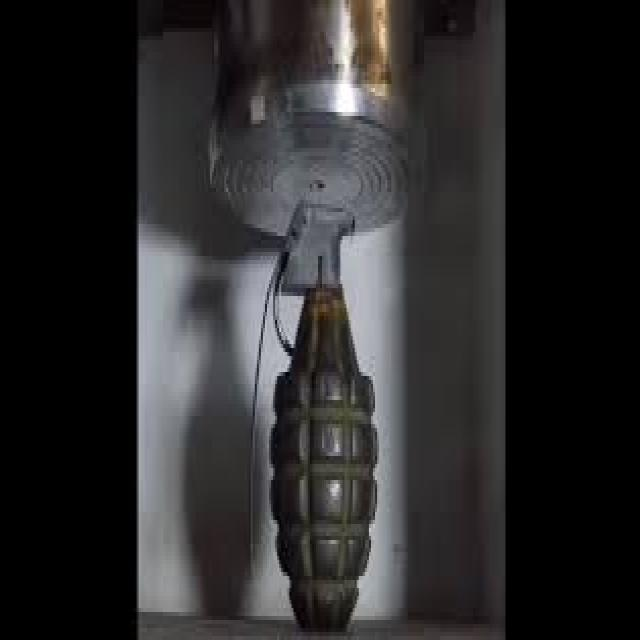grenade: (243, 199, 383, 640)
